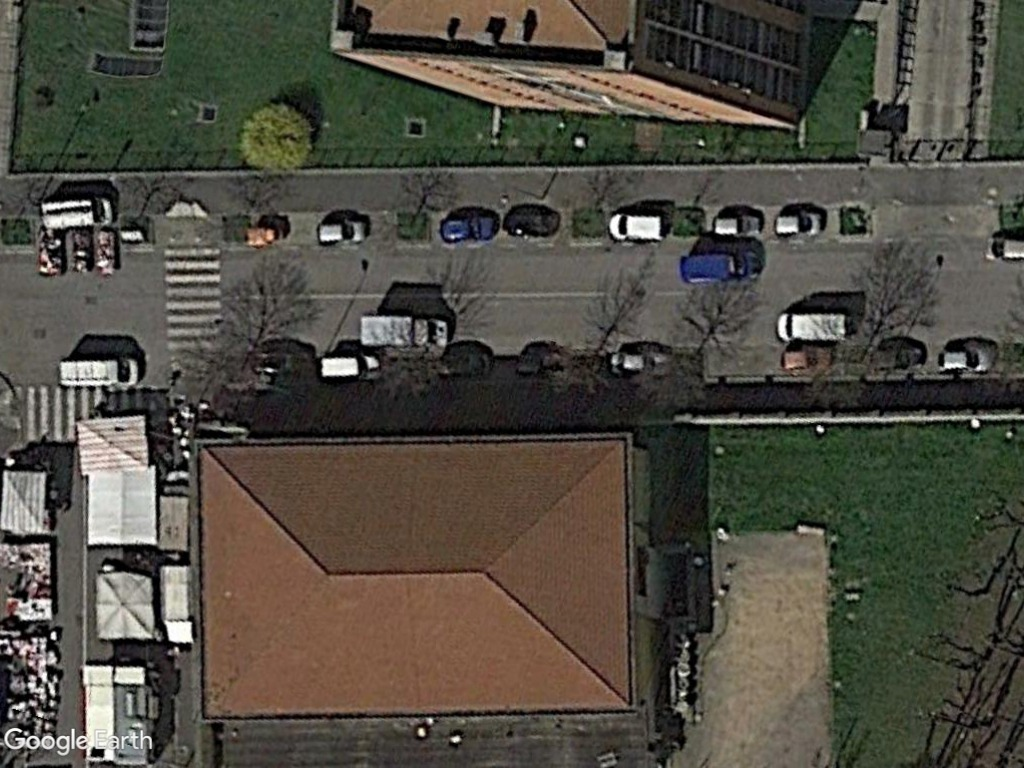car: (934, 343, 995, 376), (314, 215, 370, 248), (770, 212, 828, 239), (710, 211, 765, 239)
van: (354, 312, 452, 355), (675, 249, 769, 288), (56, 355, 145, 392), (772, 308, 856, 347), (314, 350, 385, 383), (604, 210, 668, 246)
